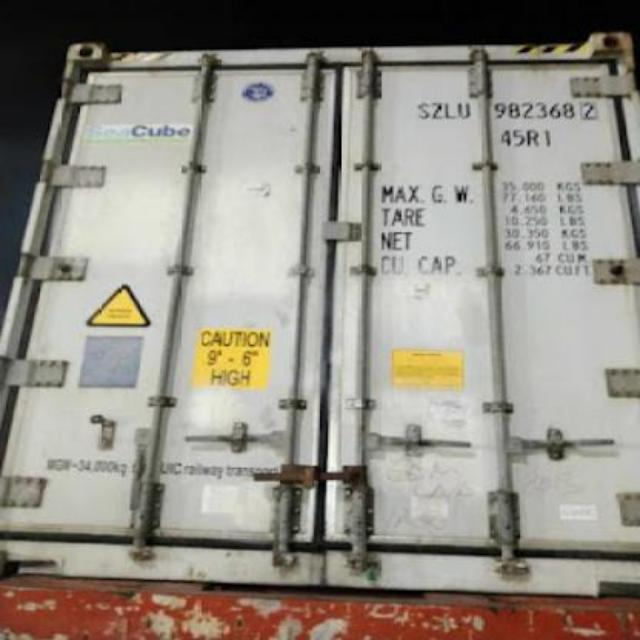2: (576, 97, 602, 123), (522, 98, 534, 122)
3: (532, 95, 548, 122)
6: (546, 92, 564, 124)
8: (562, 96, 574, 128), (506, 96, 518, 120)
9: (494, 97, 506, 123)
L: (444, 98, 456, 126)
S: (414, 95, 430, 122)
U: (458, 91, 474, 123)
Z: (431, 94, 444, 122)
